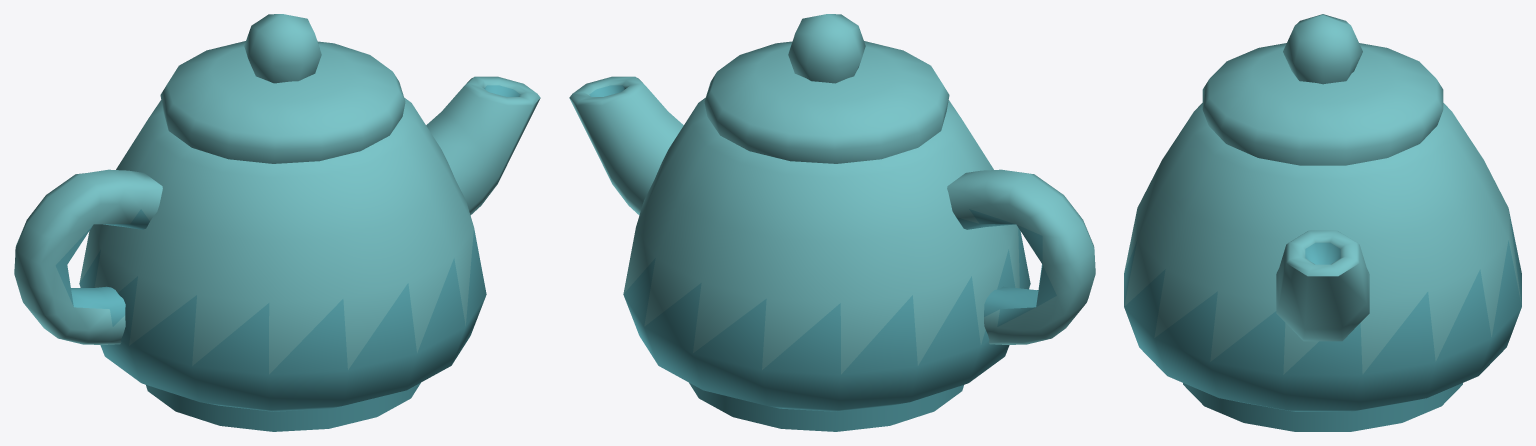
File: itch_tiny_pleasant_picnic_teapot.glb
3 renders of one model, left to right at view 1: azimuth 30°, elevation 25°; view 2: azimuth 150°, elevation 25°; view 3: azimuth 270°, elevation 25°, orthographic.
Visible parts, largest first — view 1: teapot; view 2: teapot; view 3: teapot.
Part boxes in pixels (x1,y1,x2,y2): teapot: [14, 14, 540, 431]; teapot: [569, 14, 1095, 431]; teapot: [1124, 14, 1521, 431].
Bounding box in the file's own units: 0.96 × 0.6415 × 0.6471.
